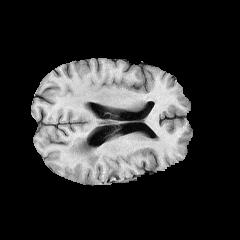glioma: (66, 138, 99, 170)
